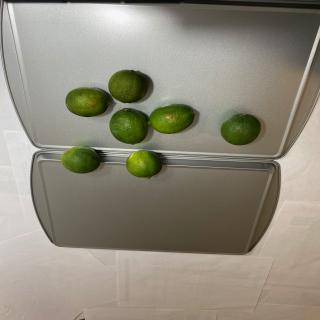Apple: (148, 103, 195, 134), (65, 87, 110, 117)
Lemon: (109, 108, 148, 144), (108, 70, 148, 104), (220, 113, 261, 146), (60, 146, 101, 174), (126, 150, 162, 179)
